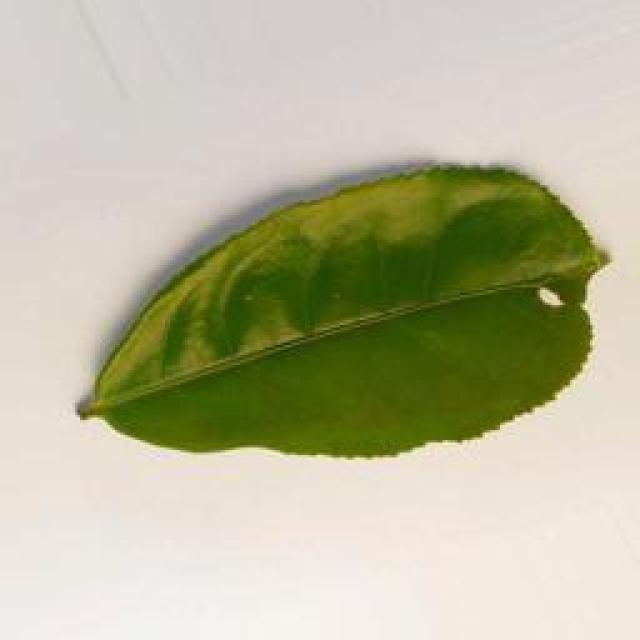Healthy: (61, 154, 603, 462)
